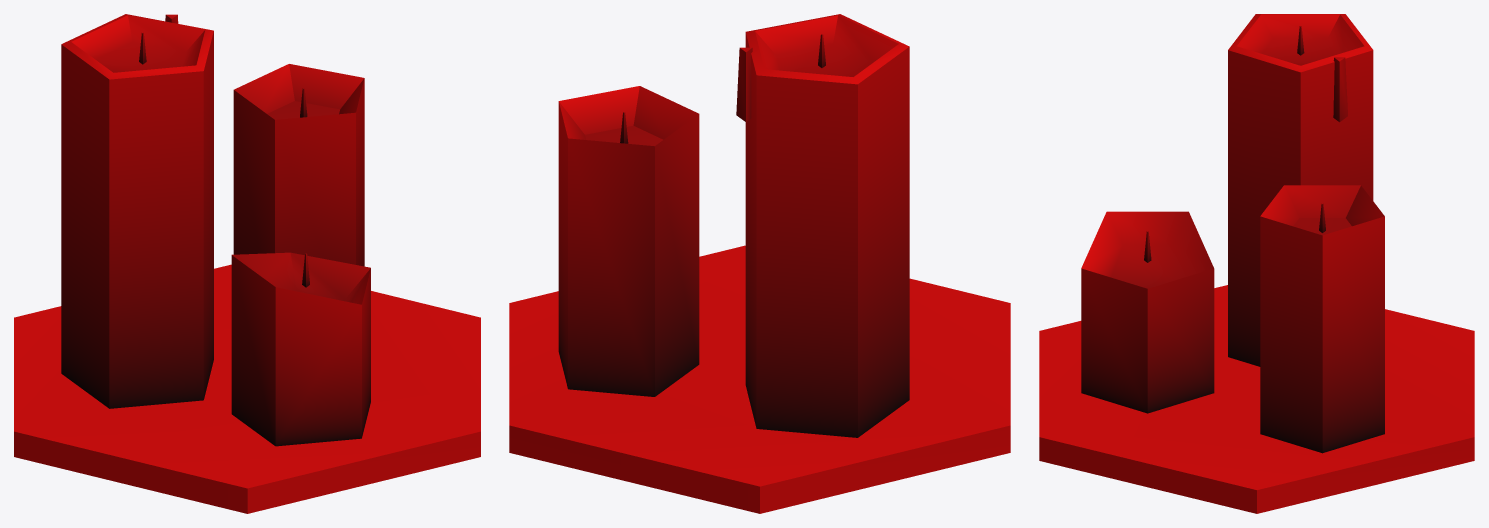
Rendered from CI_Living_Candle_Cluster.glb.
3 renders of one model, left to right at view 1: azimuth 30°, elevation 25°; view 2: azimuth 150°, elevation 25°; view 3: azimuth 270°, elevation 25°, orthographic. The views are drawn at different scales.
Visible parts, largest first — view 1: CI_Living_Candle_Cluster; view 2: CI_Living_Candle_Cluster; view 3: CI_Living_Candle_Cluster.
Boxes of the visible parts, x1=… form: CI_Living_Candle_Cluster: x1=14, y1=14, x2=480, y2=513; CI_Living_Candle_Cluster: x1=509, y1=14, x2=1010, y2=513; CI_Living_Candle_Cluster: x1=1039, y1=14, x2=1474, y2=513.
Size of the model in its own units: 0.23 by 0.174 by 0.1992.
